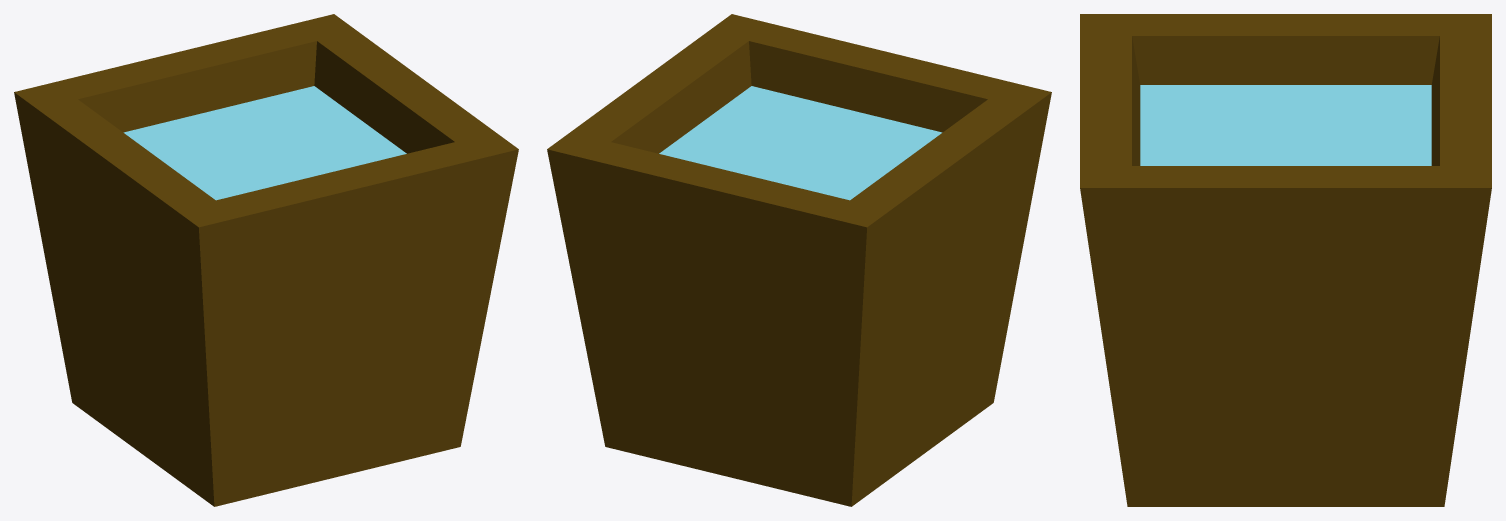
File: Bucket 01.FBX
3 renders of one model, left to right at view 1: azimuth 30°, elevation 25°; view 2: azimuth 150°, elevation 25°; view 3: azimuth 270°, elevation 25°, orthographic. The views are drawn at different scales.
Visible parts, largest first — view 1: Bucket 01; view 2: Bucket 01; view 3: Bucket 01.
Part boxes in pixels (left/top/right/bottom): Bucket 01: left=14, top=14, right=518, bottom=506; Bucket 01: left=547, top=14, right=1051, bottom=506; Bucket 01: left=1080, top=14, right=1491, bottom=506.
Bounding box in the file's own units: 78.21 × 71.01 × 78.21.
